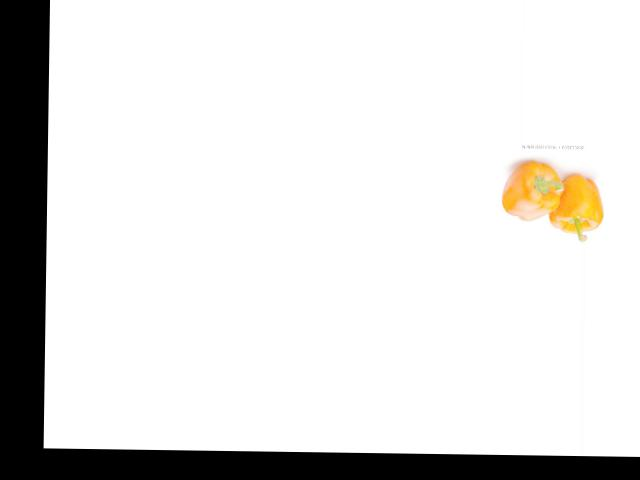bell_pepper: (499, 154, 566, 223)
